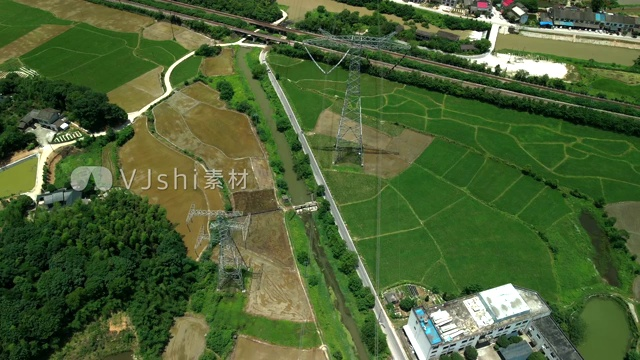tower_body: (307, 26, 422, 169), (180, 201, 258, 298)
tower_foot: (333, 117, 366, 166), (213, 262, 250, 295)
tower_head: (310, 29, 417, 57), (183, 204, 249, 222)
